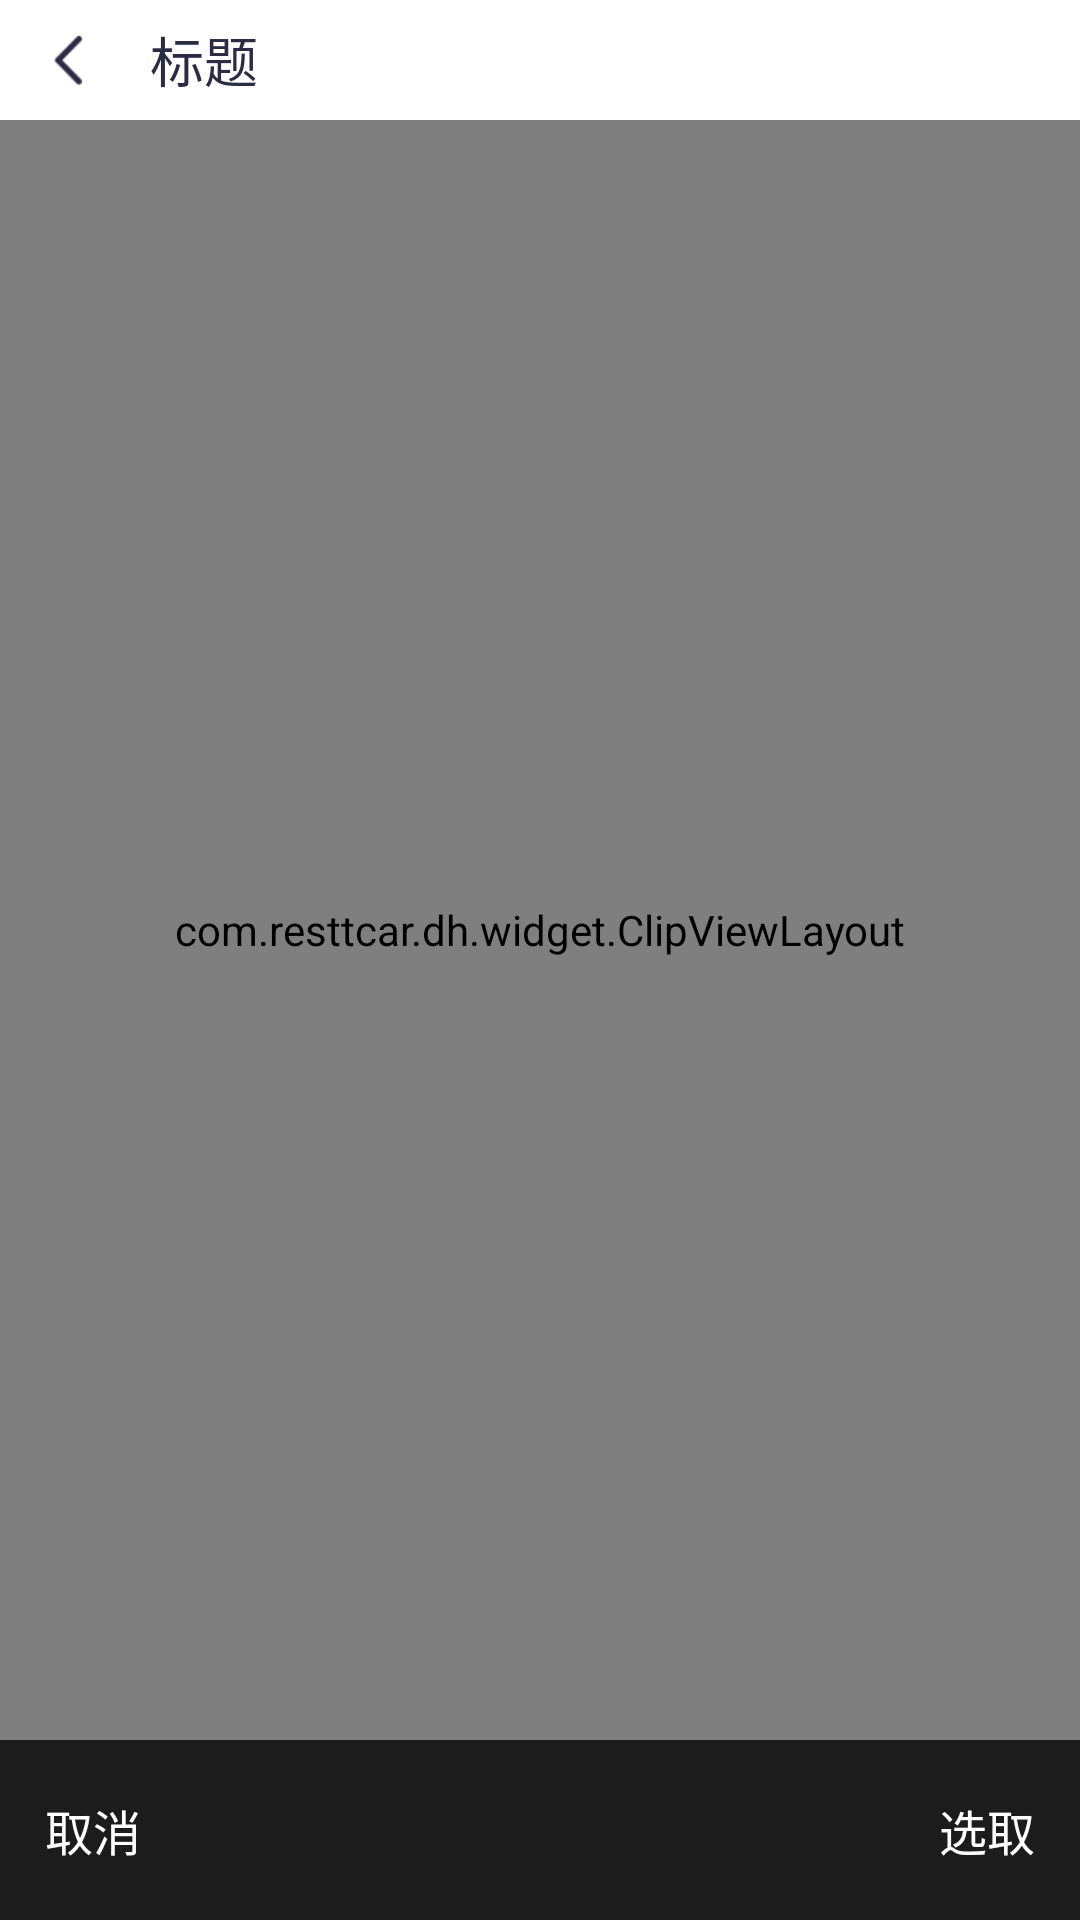

Screen size 1080 x 1920. Icon name, then its box in pixels as [x1, y1, x2, y2]:
return: [54, 35, 83, 86]
